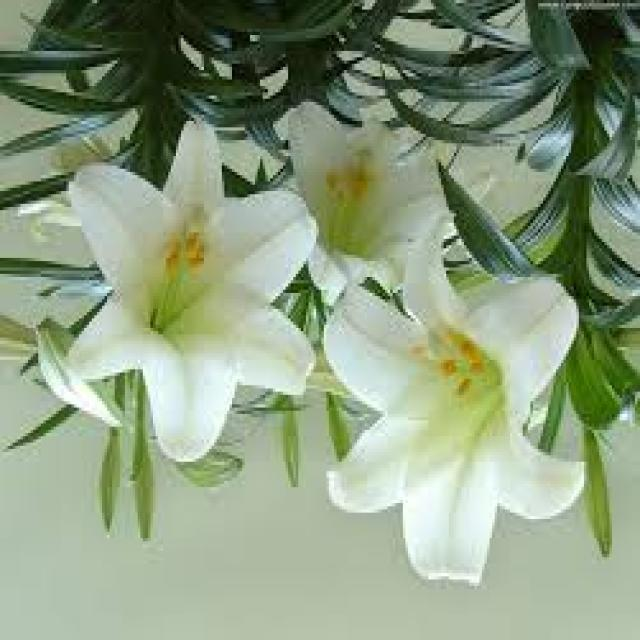lily: (313, 206, 601, 586), (34, 80, 311, 466)
